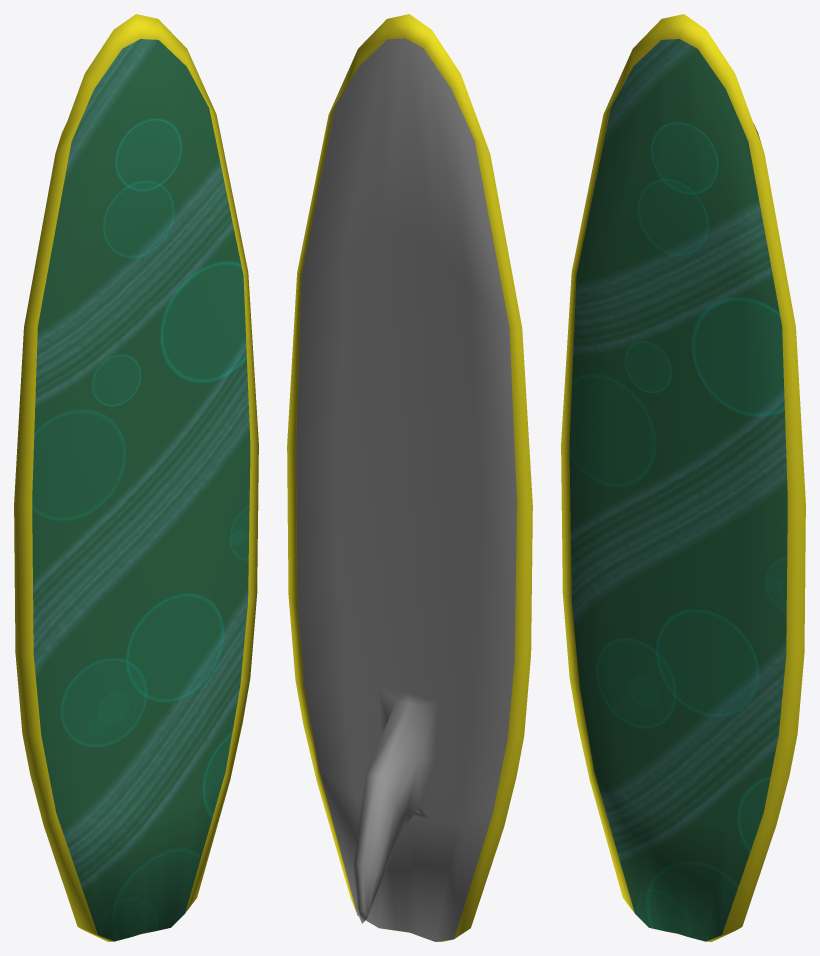
Rendered from Surf2.obj.
The picture shows the model from 3 angles, left to right: view 1: azimuth 30°, elevation 25°; view 2: azimuth 150°, elevation 25°; view 3: azimuth 330°, elevation 25°; orthographic projection.
Parts seen in each view (by area): view 1: Cube.002_Cube.004; view 2: Cube.002_Cube.004; view 3: Cube.002_Cube.004.
Part boxes in pixels (x1,y1,x2,y2): Cube.002_Cube.004: (14,14,258,941); Cube.002_Cube.004: (287,14,532,941); Cube.002_Cube.004: (561,14,805,941).
Size of the model in its own units: 0.5466 by 1.96 by 0.2326.
